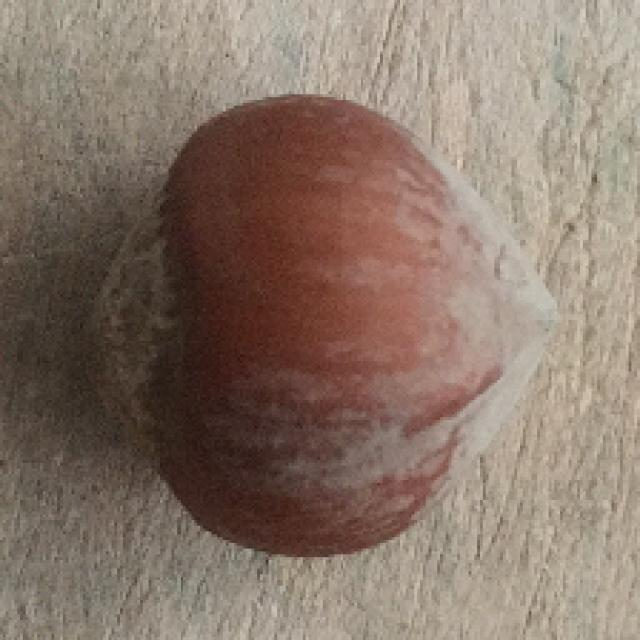qualityHazelnut: (88, 92, 559, 564)
